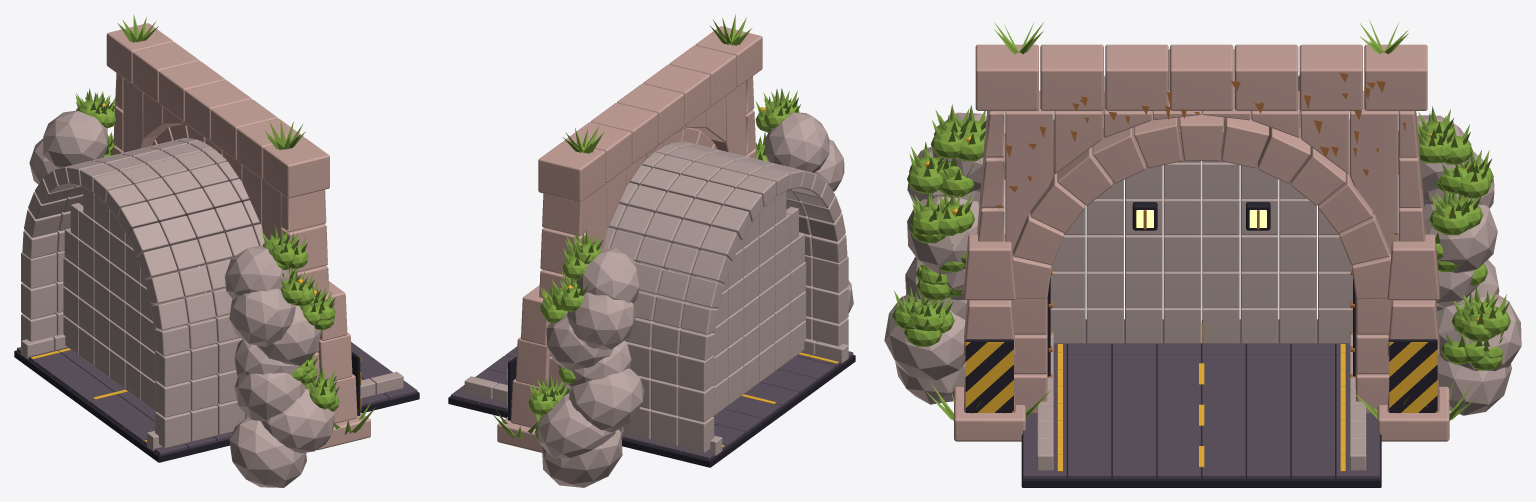
Rendered from bld.tunnel-portal.glb.
The picture shows the model from 3 angles, left to right: view 1: azimuth 30°, elevation 25°; view 2: azimuth 150°, elevation 25°; view 3: azimuth 270°, elevation 25°; orthographic projection. The views are drawn at different scales.
Visible parts, largest first — view 1: roof, body, interior; view 2: roof, body, interior; view 3: interior, body, roof.
Part boxes in pixels (x1,y1,x2,y2): roof: (22, 23, 329, 356); body: (29, 14, 376, 487); interior: (14, 187, 419, 462); roof: (538, 26, 847, 360); body: (492, 14, 853, 487); interior: (448, 191, 855, 467); interior: (1021, 150, 1381, 487); body: (884, 19, 1521, 441); roof: (975, 44, 1427, 298).
Bounding box in the file's own units: 7.3 × 8.64 × 12.39.
